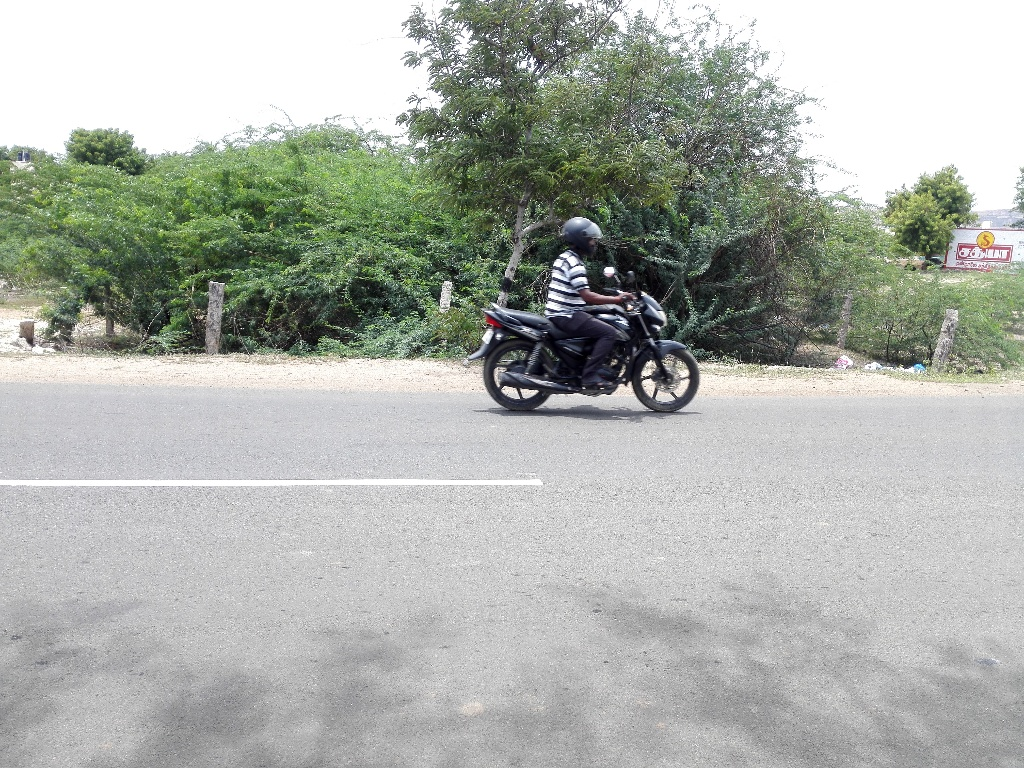biker: (452, 185, 723, 430)
helmet: (552, 206, 617, 270)
